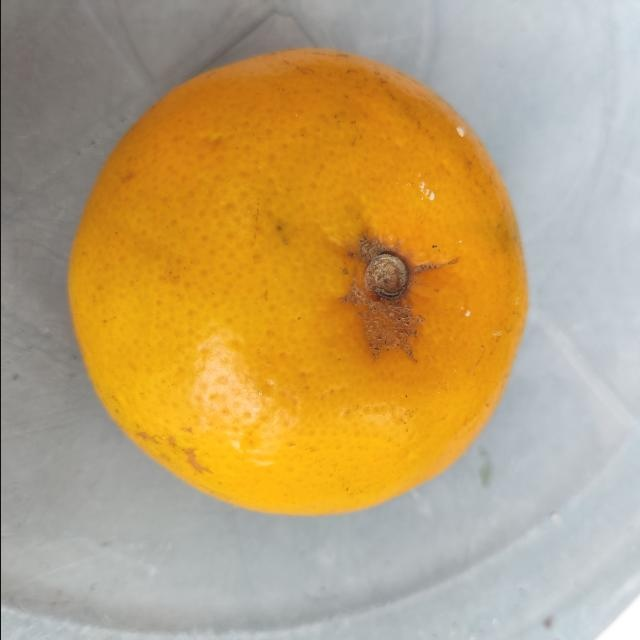agrume: (66, 45, 532, 515)
